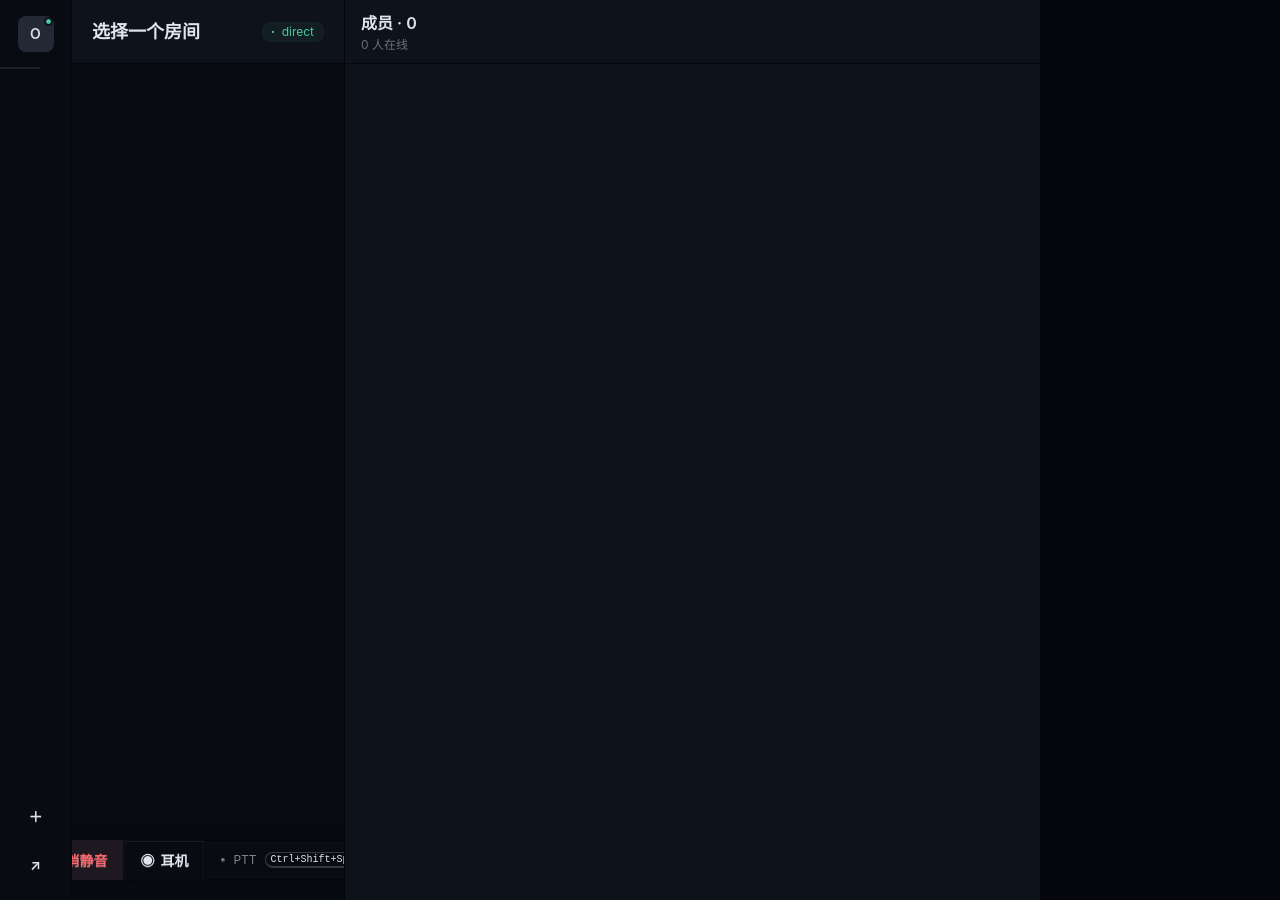
Test: App daemon snapshot races through voice controls › still reports failure of the refresh requested by a voice action
Click the button "⌁ 取消静音": (72, 860) [20,840,124,880]
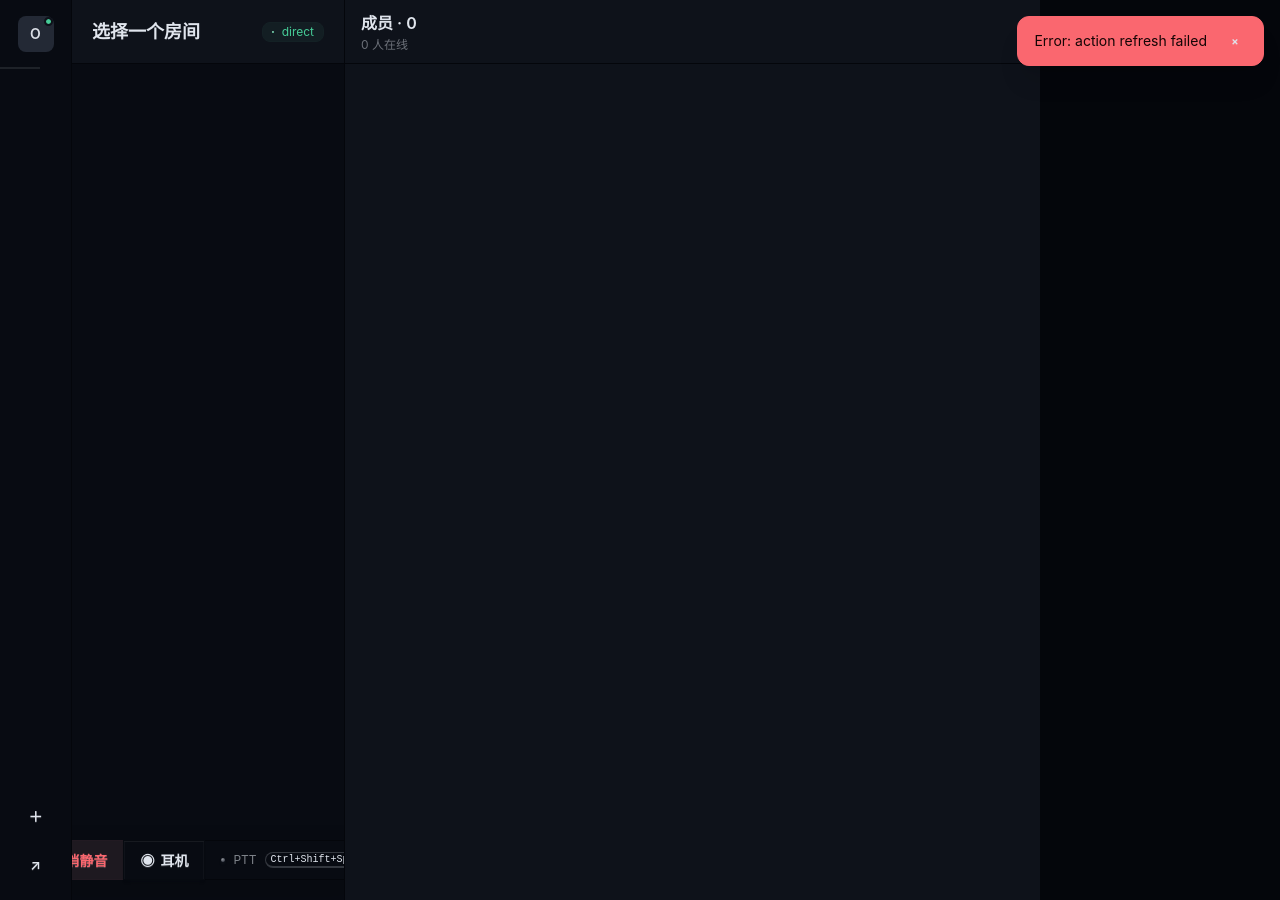
Result: the message "Error: action refresh failed ×" is shown at [1018,16,1264,66]
